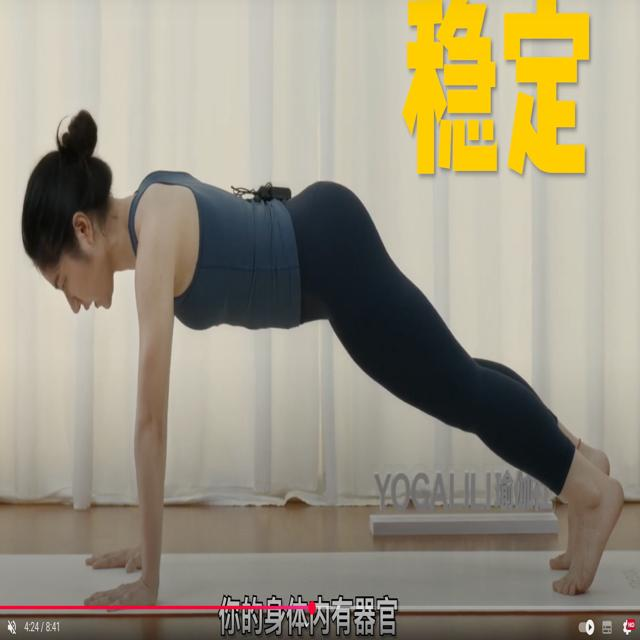Plank_Pose: (16, 143, 640, 614)
